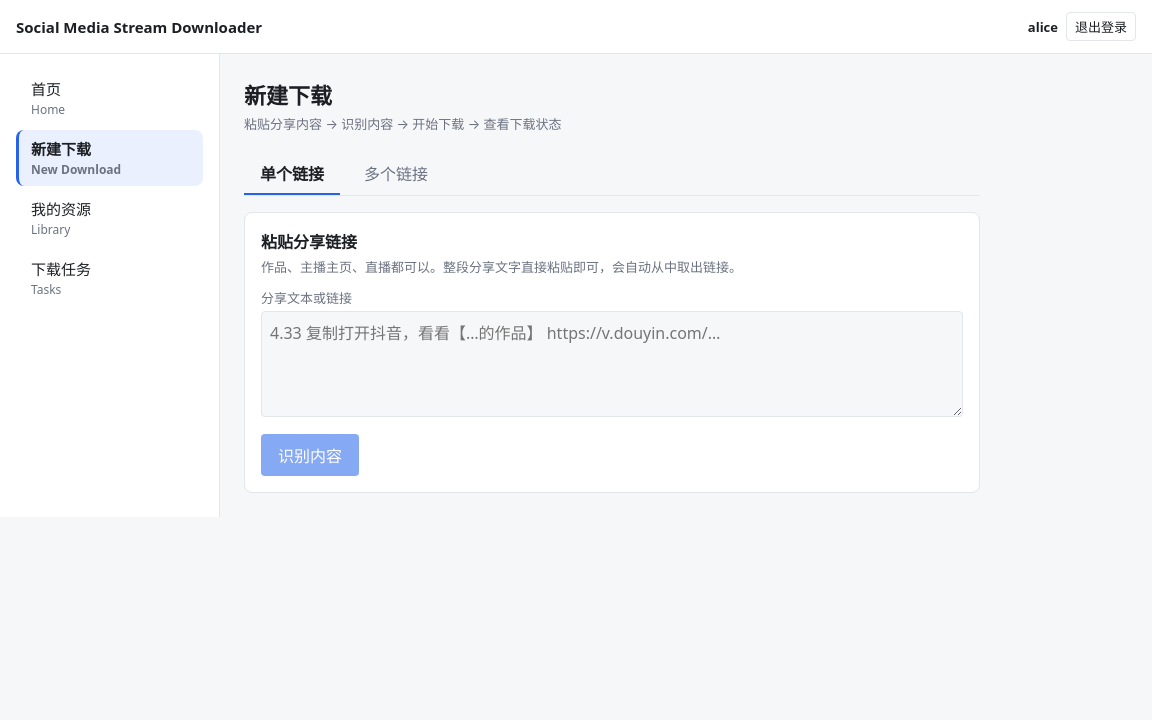
Test: shared application shell › keeps identity and route when the logout request fails
The image size is (1152, 720).
What coordinates should you click on to do the following:
click the button with test id "logout"
I would click on:
 (1101, 26)
Its box is [1066, 12, 1136, 41].
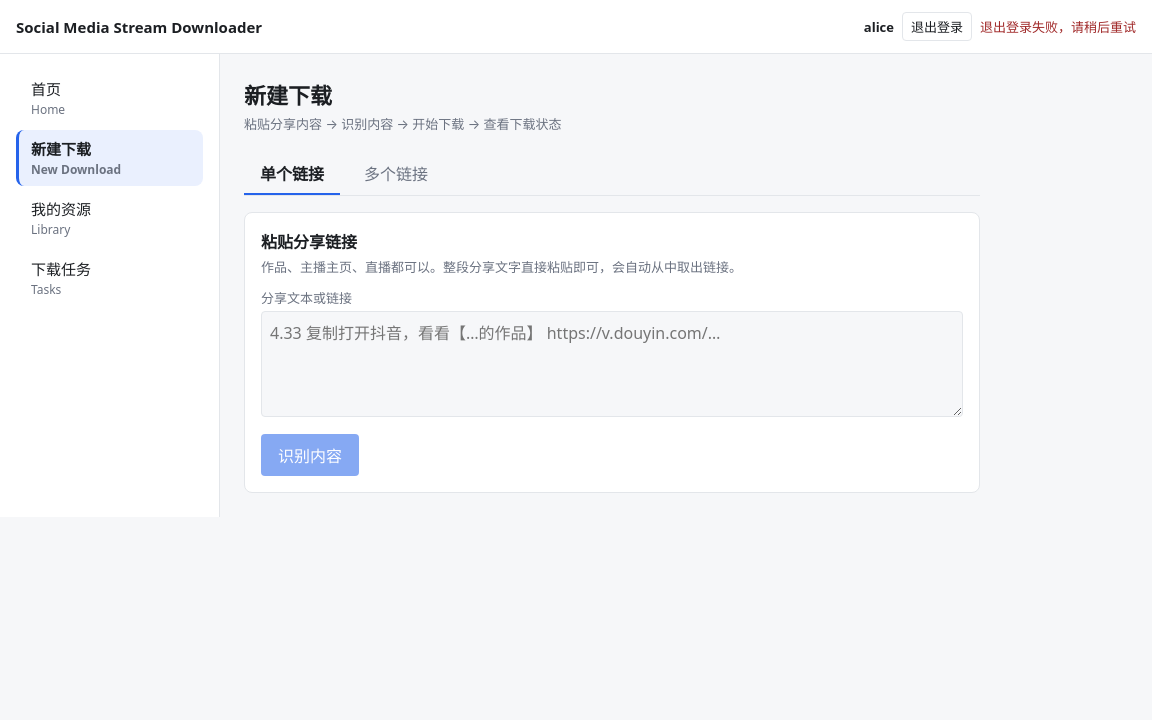
Expected: the button with test id "logout" is enabled, [902, 12, 972, 41]
Expected: the message with test id "logout-error" reads "退出登录失败，请稍后重试", [980, 18, 1136, 36]
